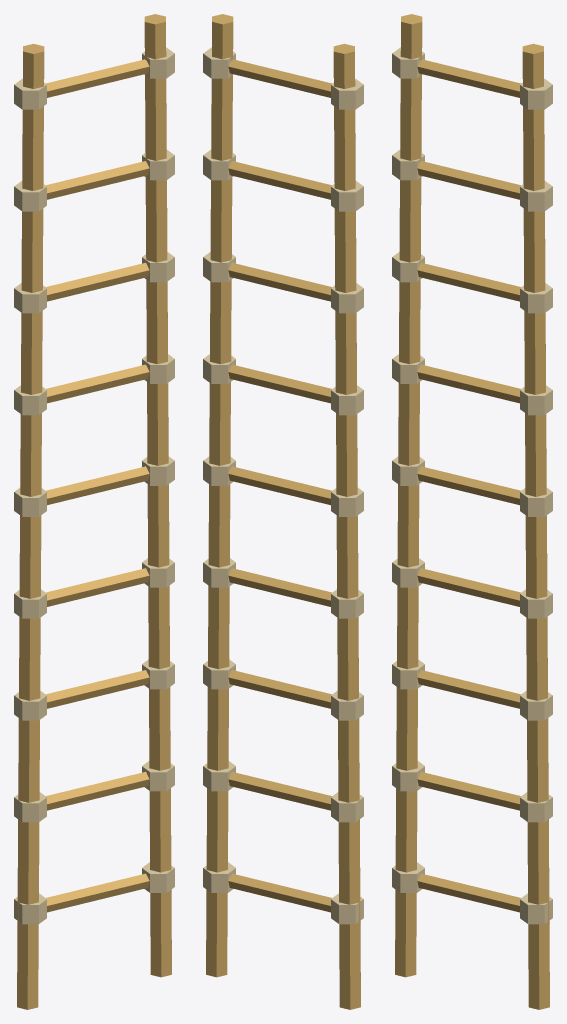
File: growth_ladder.glb
3 views of the same model, side by side, from view 1: azimuth 30°, elevation 25°; view 2: azimuth 150°, elevation 25°; view 3: azimuth 330°, elevation 25° (orthographic).
Visible parts, largest first — view 1: growth_ladder; view 2: growth_ladder; view 3: growth_ladder.
Boxes of the visible parts, box(x1,y1,x2,y2) form: growth_ladder: box(14, 14, 174, 1009); growth_ladder: box(203, 14, 363, 1009); growth_ladder: box(392, 14, 552, 1009).
Bounding box in the file's own units: 0.51 × 3 × 0.094.
Materials: 1 (1 with a texture image).
